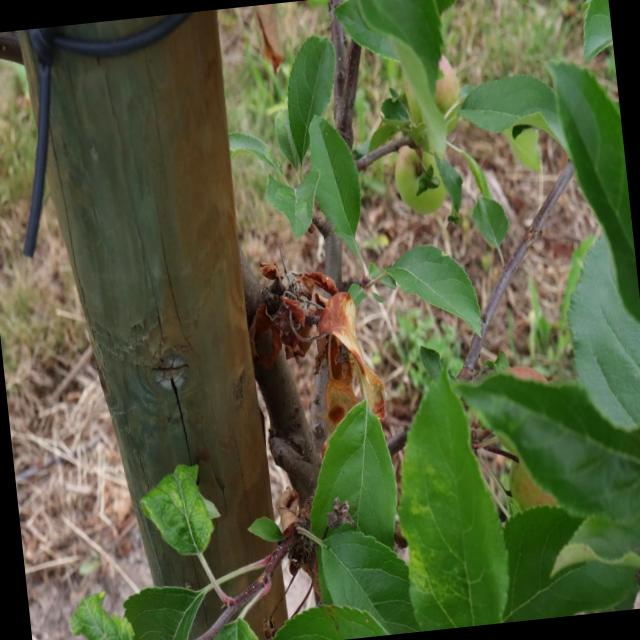-FireBlight-: (230, 251, 398, 436)
